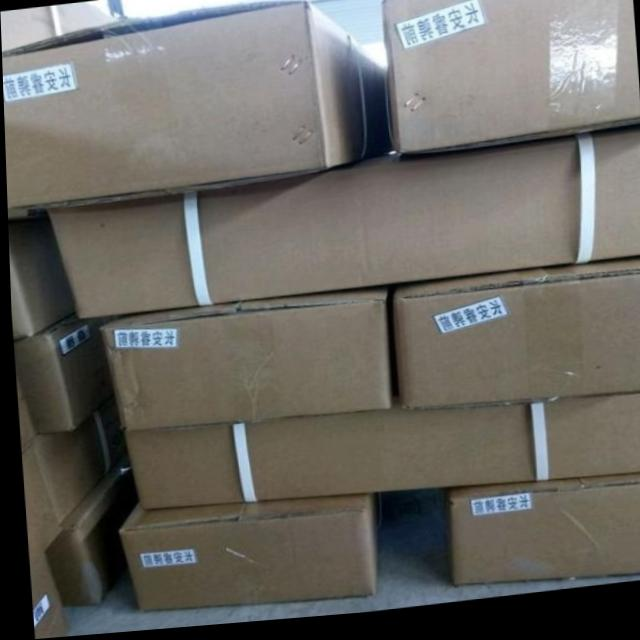box: (43, 139, 640, 322), (2, 6, 389, 218), (122, 401, 640, 512), (381, 0, 640, 166), (100, 294, 393, 433), (393, 268, 640, 414), (113, 497, 413, 611), (446, 480, 640, 590), (38, 454, 136, 608), (29, 393, 124, 522), (12, 315, 111, 433), (19, 450, 67, 639), (6, 212, 70, 338), (0, 3, 126, 54)
